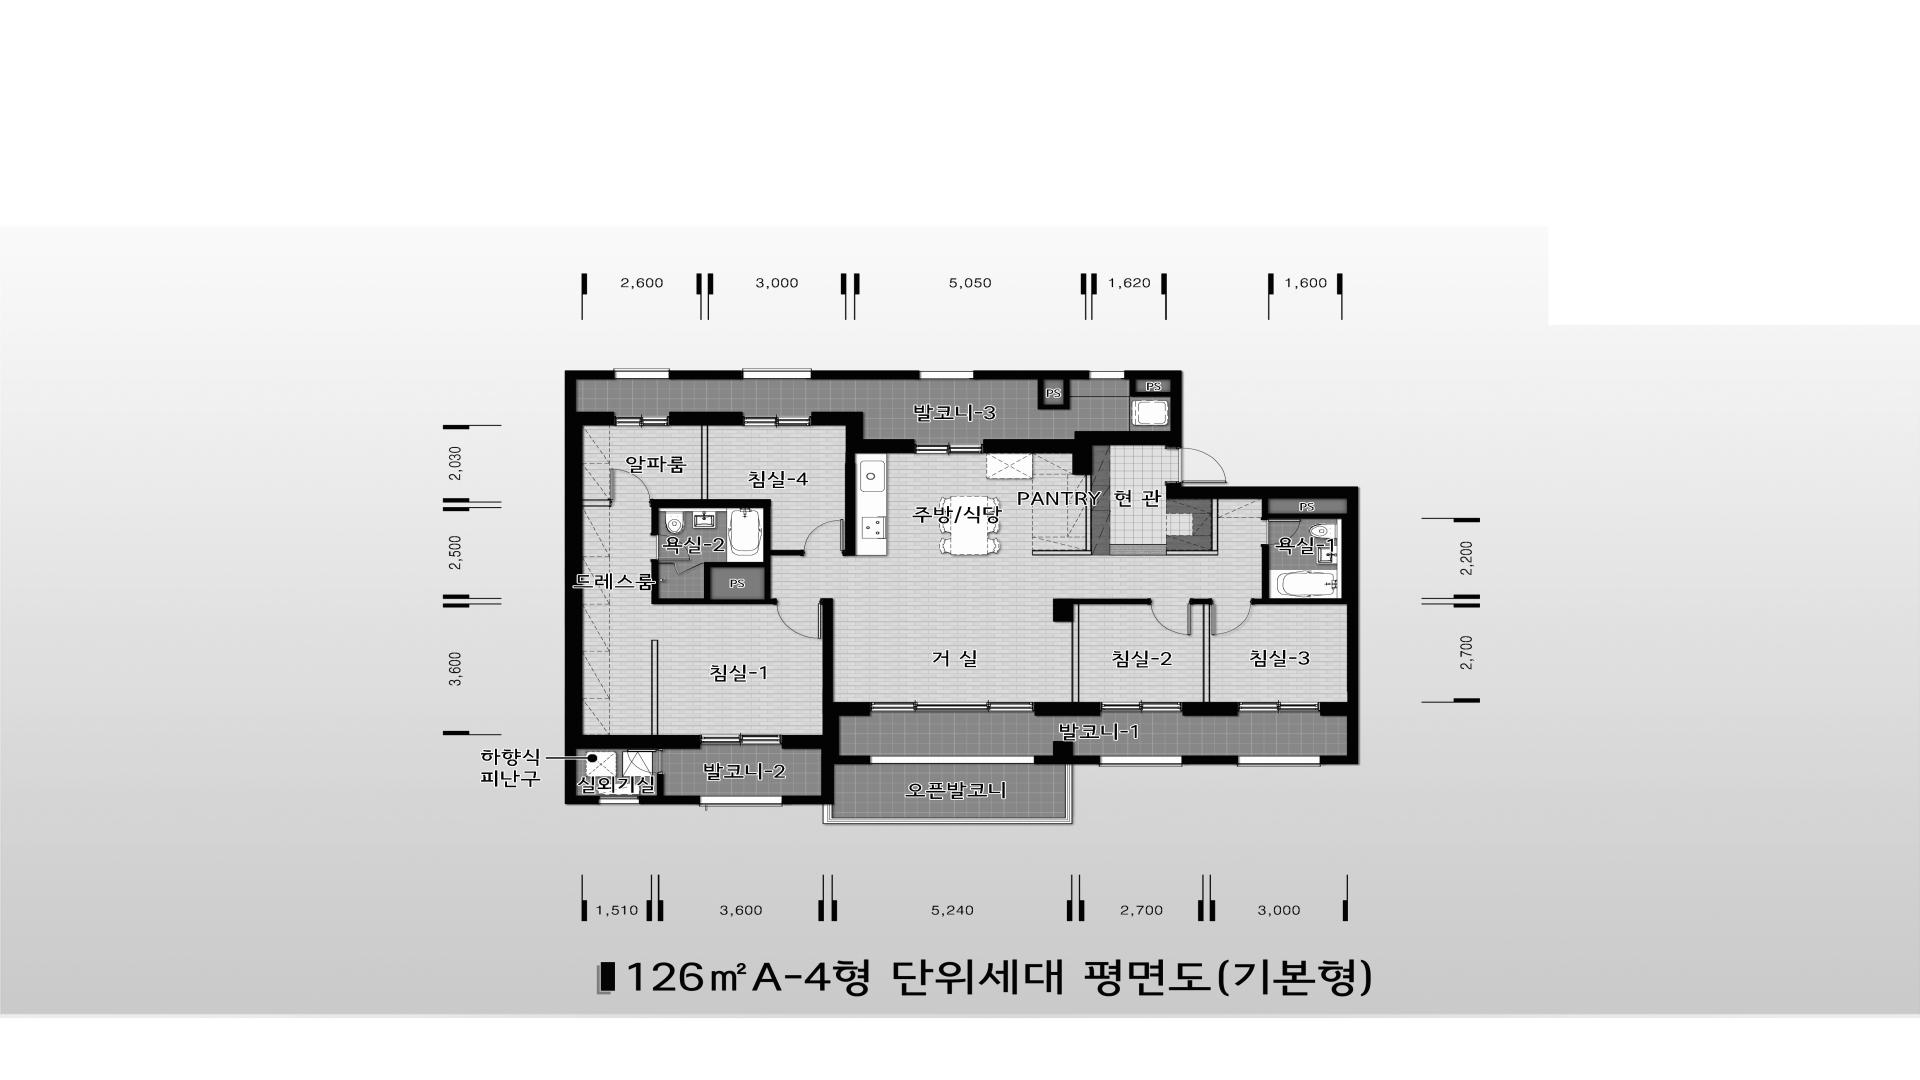door: (1166, 447, 1227, 483), (776, 598, 821, 638), (610, 469, 651, 507), (1151, 598, 1191, 636), (1212, 598, 1252, 636), (803, 519, 844, 556), (650, 535, 690, 560), (1261, 519, 1301, 544), (627, 749, 664, 774)
wall: (1166, 483, 1358, 765), (651, 412, 803, 604), (565, 370, 614, 804), (811, 411, 915, 556), (782, 598, 870, 756), (1034, 598, 1151, 716), (583, 640, 700, 749), (983, 431, 1166, 475), (1182, 598, 1238, 716), (1252, 544, 1341, 604), (1032, 475, 1092, 556), (1124, 370, 1182, 447), (782, 756, 870, 804), (1166, 499, 1218, 556), (710, 567, 765, 600), (1262, 499, 1341, 519), (974, 370, 1089, 380), (811, 370, 919, 380), (1037, 379, 1070, 410), (669, 370, 743, 380), (1129, 379, 1170, 397), (1034, 756, 1100, 764), (1181, 756, 1238, 765), (639, 796, 700, 804), (582, 412, 614, 426), (1320, 702, 1347, 716), (1053, 741, 1073, 756), (582, 499, 610, 507), (657, 774, 664, 795)
window: (870, 702, 1034, 712), (870, 756, 1034, 764), (1099, 756, 1182, 767), (700, 796, 782, 807), (1238, 756, 1320, 767), (700, 735, 782, 745), (1100, 702, 1182, 712), (1238, 702, 1320, 712), (742, 368, 812, 379), (742, 416, 812, 426), (915, 444, 983, 454), (614, 368, 669, 379), (614, 416, 669, 426), (919, 371, 974, 380), (599, 796, 639, 804), (1088, 371, 1125, 379)
